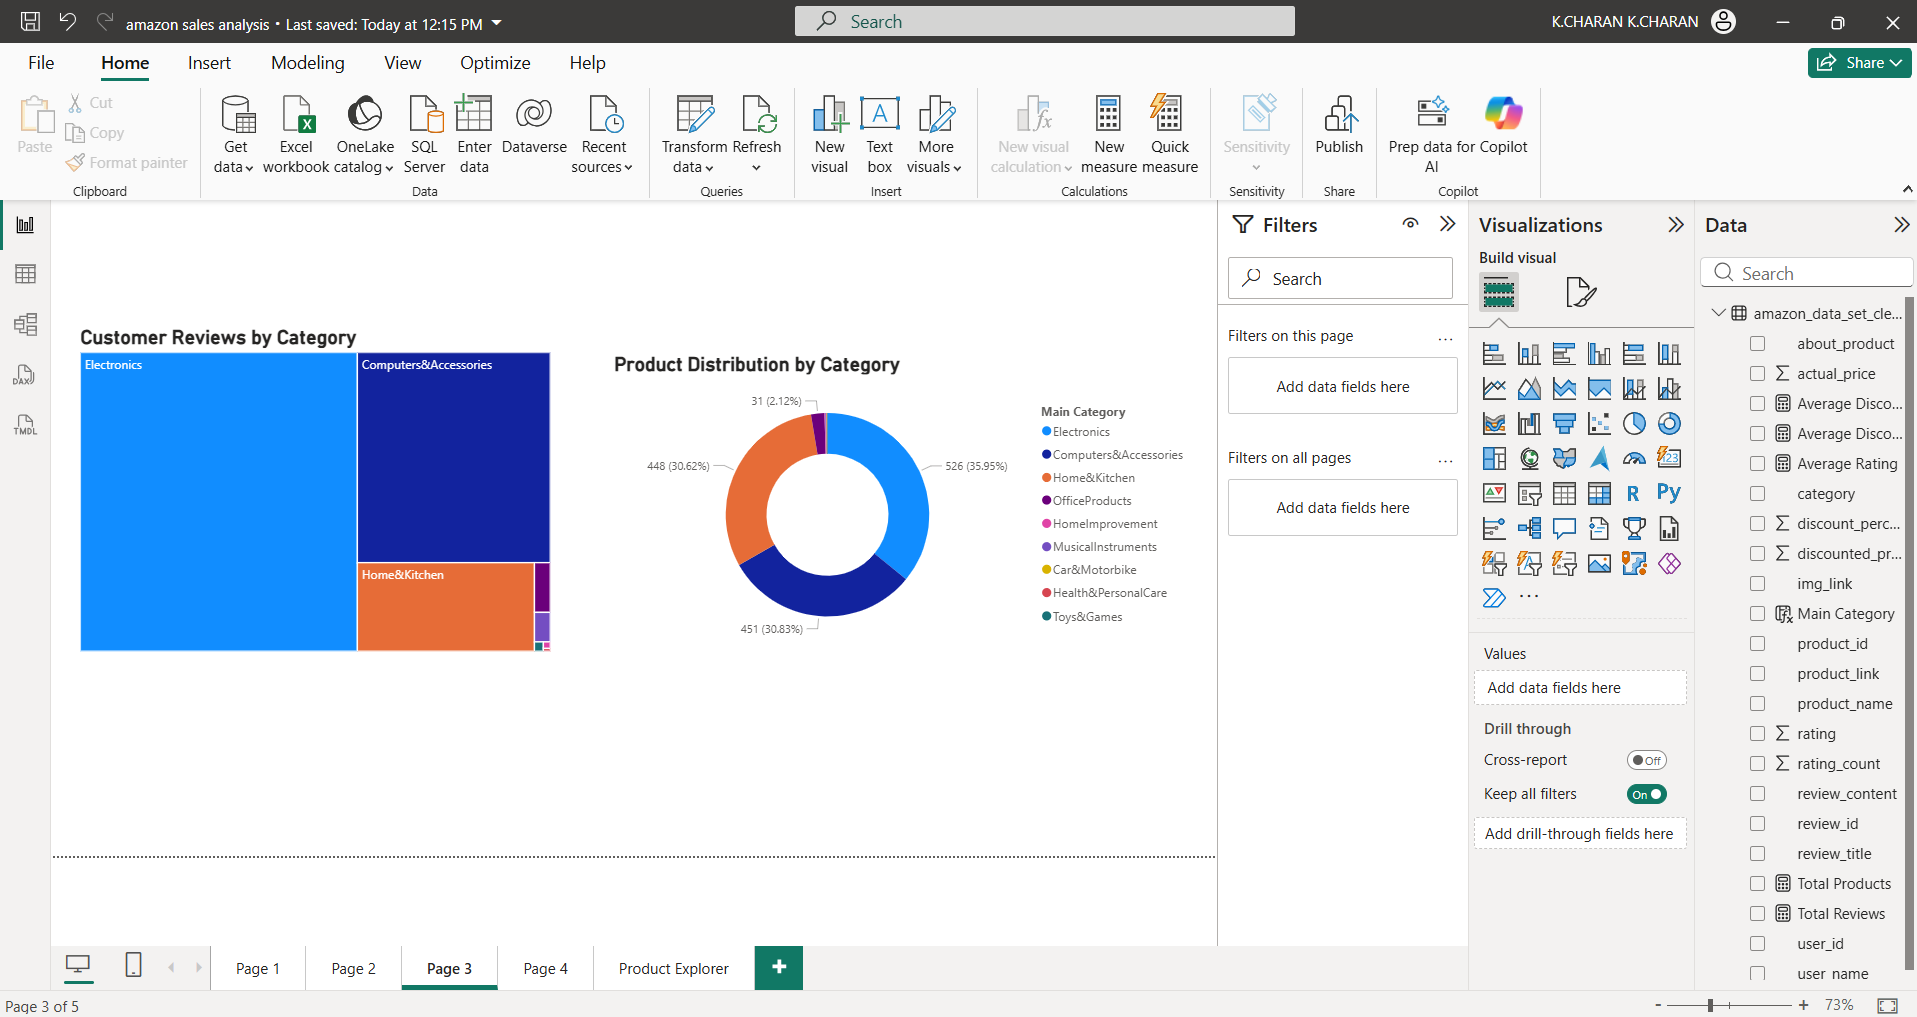

The dashboard page shown, as its layout file describes it:
{"tool":"powerbi","page":{"name":"Page 3","canvas":[1280,720],"ordinal":2},"visuals":[{"type":"treemap","title":"Customer Reviews by Category","fields":{"Group":["amazon_data_set_cleaned.Main Category"],"Values":["Sum(amazon_data_set_cleaned.rating_count)"]},"box":[28.1,138.2,525.8,362],"z":0},{"type":"donutChart","title":"Product Distribution by Category","fields":{"Category":["amazon_data_set_cleaned.Main Category"],"Y":["CountNonNull(amazon_data_set_cleaned.product_id)"]},"box":[613.9,167.5,644.4,332.6],"z":1000}]}

Visuals, with their boxes on the page's 1280x720 design canvas (x1, y1, x2, y2). These are canvas units, not pixel positions in the 1917x1017 screenshot, which may show the page scaled, cropped or inside an application window:
"Customer Reviews by Category" treemap: bbox=(28, 138, 554, 500)
"Product Distribution by Category" donutChart: bbox=(614, 168, 1258, 500)
